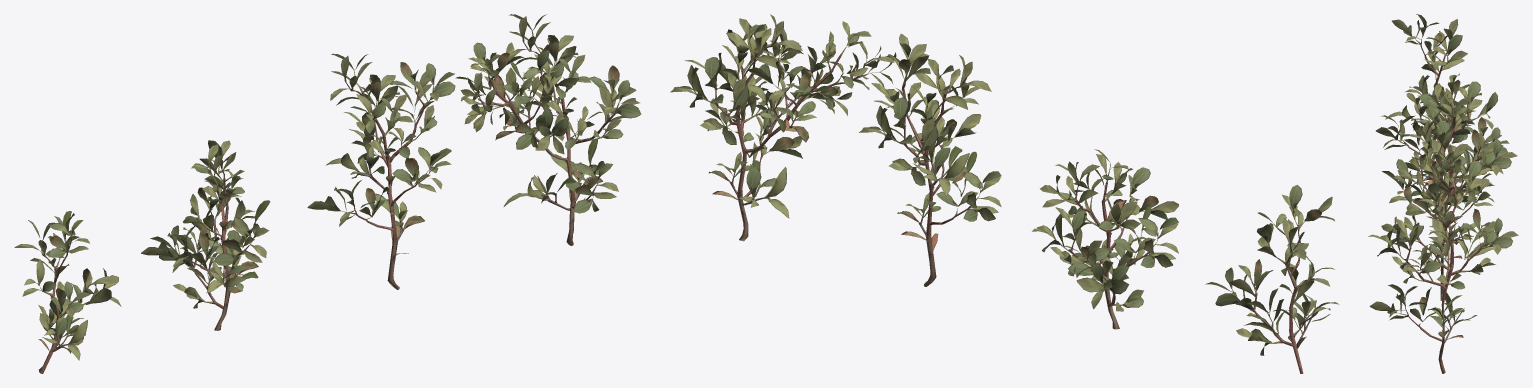
File: shrub_04.glb
The picture shows the model from 3 angles, left to right: view 1: azimuth 30°, elevation 25°; view 2: azimuth 150°, elevation 25°; view 3: azimuth 270°, elevation 25°; orthographic projection. The views are drawn at different scales.
Parts seen in each view (by area): view 1: shrub_04; view 2: shrub_04; view 3: shrub_04.
Part boxes in pixels (x1,y1,x2,y2): shrub_04: (14, 14, 641, 373); shrub_04: (670, 14, 1339, 373); shrub_04: (1368, 14, 1518, 373).
Bounding box in the file's own units: 0.5837 × 0.2192 × 0.1461.
Materials: 1 (1 with a texture image).
